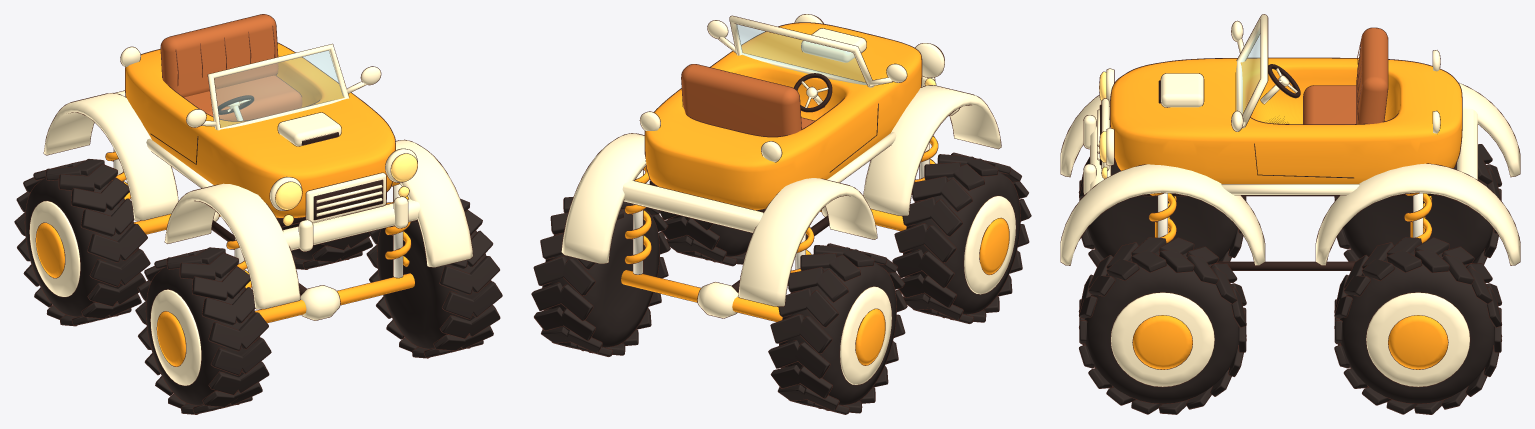
File: monstertruck.glb
3 renders of one model, left to right at view 1: azimuth 30°, elevation 25°; view 2: azimuth 150°, elevation 25°; view 3: azimuth 270°, elevation 25°, orthographic. The views are drawn at different scales.
Visible parts, largest first — view 1: Body_Mesh, Tire_Mesh, Tire_Mesh.001, Tire_Mesh.002, Fender_FL_Mesh, Fender_RL_Mesh, Cube.002, Windshield_Glass, Fender_FR_Mesh, Cube.001, Cube.149, Outline_Wheel_FL (+17 smaller); view 2: Body_Mesh, Tire_Mesh.001, Tire_Mesh, Tire_Mesh.003, Fender_RL_Mesh, Fender_FL_Mesh, Cube.002, Fender_RR_Mesh, Windshield_Glass, Cube.152, Tire_Mesh.002, Windshield_Frame_Curve (+15 smaller); view 3: Body_Mesh, Tire_Mesh.003, Tire_Mesh.002, Tire_Mesh.001, Fender_RR_Mesh, Fender_FR_Mesh, Tire_Mesh, Cube.002, Cube.001, Outline_Wheel_RR, Outline_Wheel_FR, Fender_RL_Mesh (+14 smaller).
Part boxes in pixels (x1,y1,x2,y2): Body_Mesh: [125, 43, 395, 217]; Tire_Mesh: [136, 248, 270, 414]; Tire_Mesh.001: [14, 159, 149, 325]; Tire_Mesh.002: [367, 199, 502, 357]; Fender_FL_Mesh: [165, 183, 300, 308]; Fender_RL_Mesh: [44, 93, 178, 220]; Cube.002: [161, 14, 278, 97]; Windshield_Glass: [214, 50, 343, 127]; Fender_FR_Mesh: [395, 140, 472, 267]; Cube.001: [184, 75, 302, 120]; Cube.149: [283, 199, 420, 250]; Outline_Wheel_FL: [135, 247, 271, 414]; Body_Mesh: [645, 23, 921, 210]; Tire_Mesh.001: [768, 244, 906, 414]; Tire_Mesh: [892, 153, 1031, 323]; Tire_Mesh.003: [532, 197, 670, 356]; Fender_RL_Mesh: [738, 178, 877, 306]; Fender_FL_Mesh: [863, 85, 1001, 215]; Cube.002: [681, 64, 801, 136]; Fender_RR_Mesh: [561, 133, 646, 263]; Windshield_Glass: [736, 24, 866, 84]; Cube.152: [622, 180, 763, 232]; Tire_Mesh.002: [660, 211, 752, 265]; Windshield_Frame_Curve: [729, 16, 874, 87]; Body_Mesh: [1110, 58, 1461, 183]; Tire_Mesh.003: [1334, 237, 1501, 414]; Tire_Mesh.002: [1079, 237, 1246, 414]; Tire_Mesh.001: [1334, 144, 1501, 264]; Fender_RR_Mesh: [1316, 163, 1520, 265]; Fender_FR_Mesh: [1060, 164, 1264, 265]; Tire_Mesh: [1079, 157, 1245, 266]; Cube.002: [1357, 28, 1387, 124]; Cube.001: [1303, 85, 1356, 124]; Outline_Wheel_RR: [1334, 237, 1502, 414]; Outline_Wheel_FR: [1078, 237, 1246, 414]; Fender_RL_Mesh: [1459, 83, 1520, 176].
Bounding box in the file's own units: 2.24 × 2 × 2.81.
